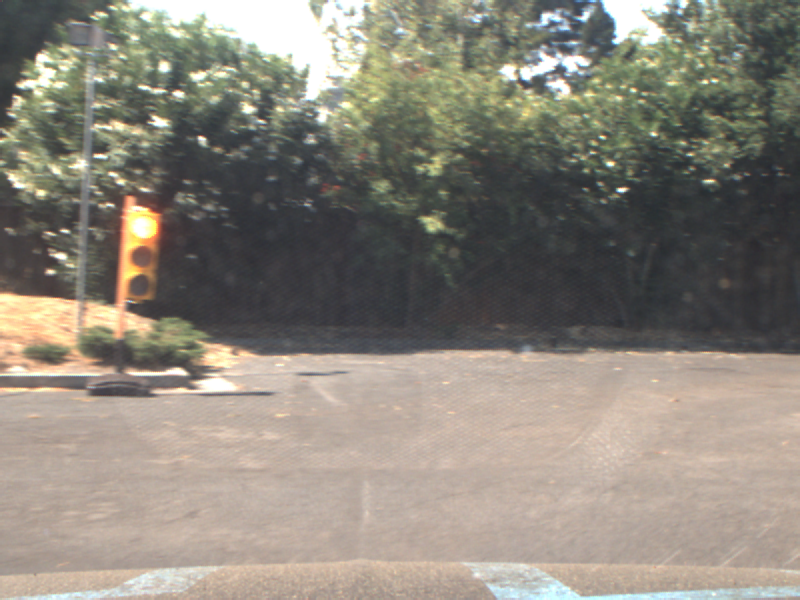red: (119, 199, 156, 299)
